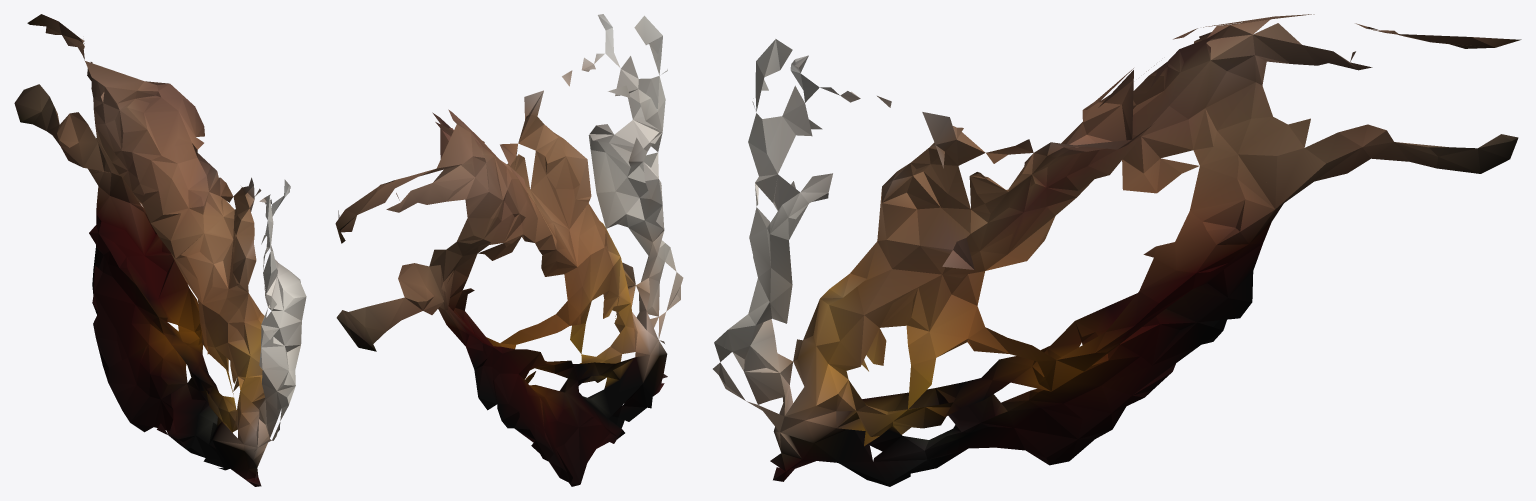
The model's file is sink_run__sink_base_right_door.scan.glb.
3 views of the same model, side by side, from view 1: azimuth 30°, elevation 25°; view 2: azimuth 150°, elevation 25°; view 3: azimuth 270°, elevation 25° (orthographic). The views are drawn at different scales.
Visible parts, largest first — view 1: geometry_0; view 2: geometry_0; view 3: geometry_0.
Boxes of the visible parts, x1,y1,x2,y2 form: geometry_0: [14, 14, 306, 486]; geometry_0: [335, 14, 683, 486]; geometry_0: [713, 14, 1521, 486].
Size of the model in its own units: 0.159 by 0.5247 by 0.8098.
